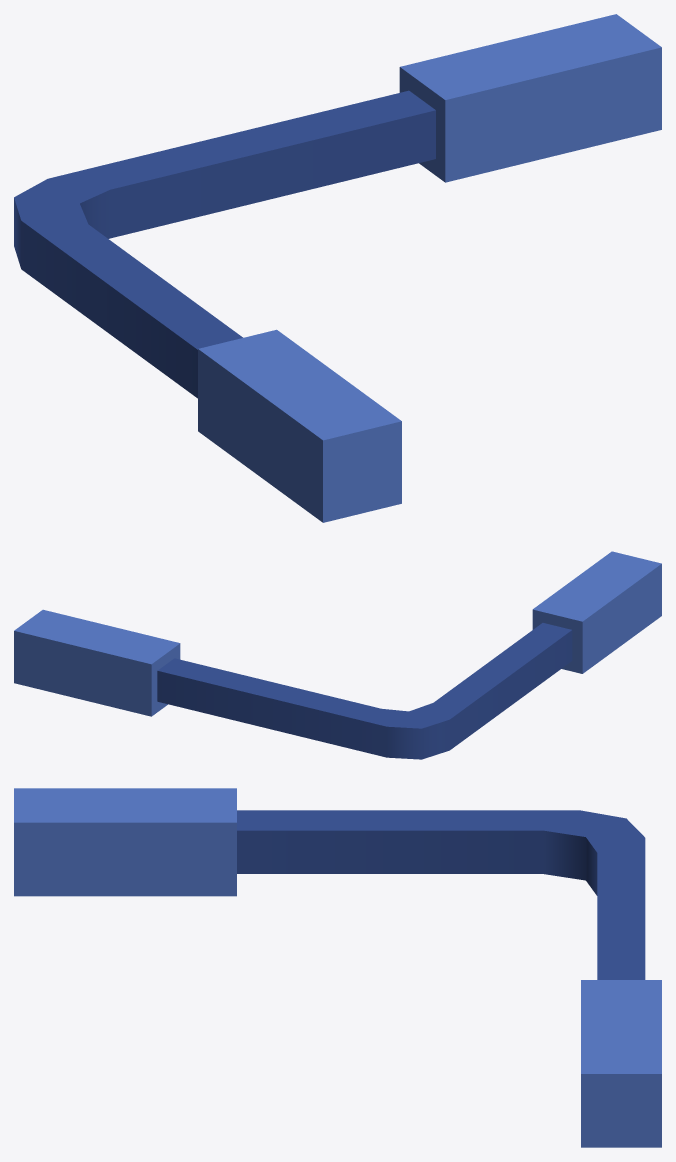
File: Cable_D_2_2.fbx
3 renders of one model, top to bottom at view 1: azimuth 30°, elevation 25°; view 2: azimuth 150°, elevation 25°; view 3: azimuth 270°, elevation 25°, orthographic. The views are drawn at different scales.
Parts seen in each view (by area): view 1: Cable_D_2_2; view 2: Cable_D_2_2; view 3: Cable_D_2_2.
Part boxes in pixels (x1,y1,x2,y2): Cable_D_2_2: (14,14,661,522); Cable_D_2_2: (14,551,661,759); Cable_D_2_2: (14,788,661,1147).
Bounding box in the file's own units: 81.88 × 9.83 × 78.5.
